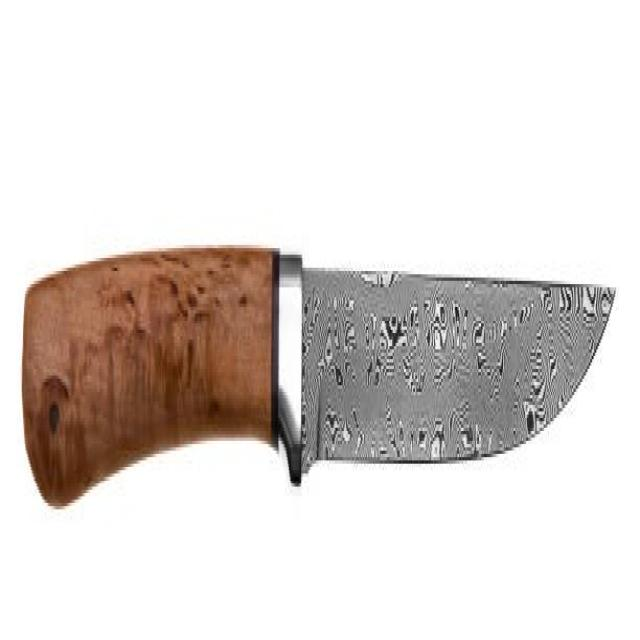knife: (18, 235, 621, 531)
